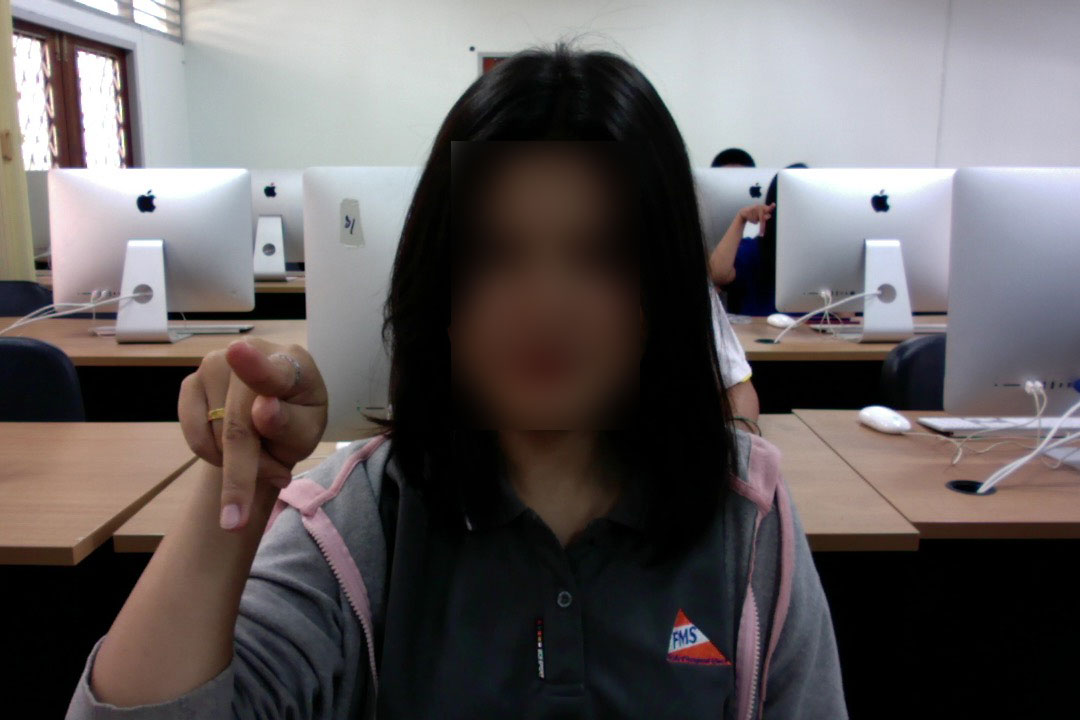por: (165, 320, 338, 541)
